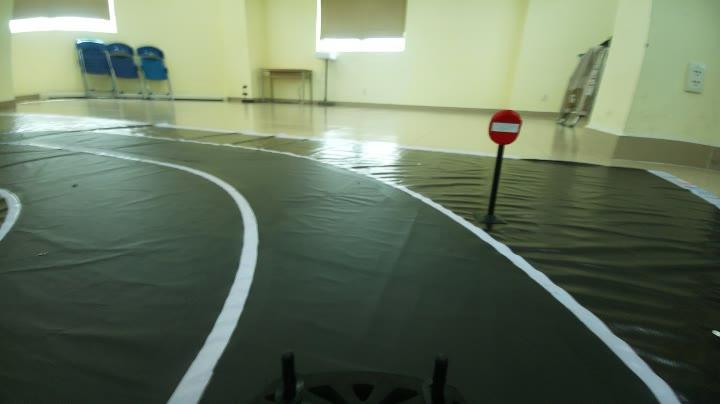no_entry: (490, 98, 528, 148)
